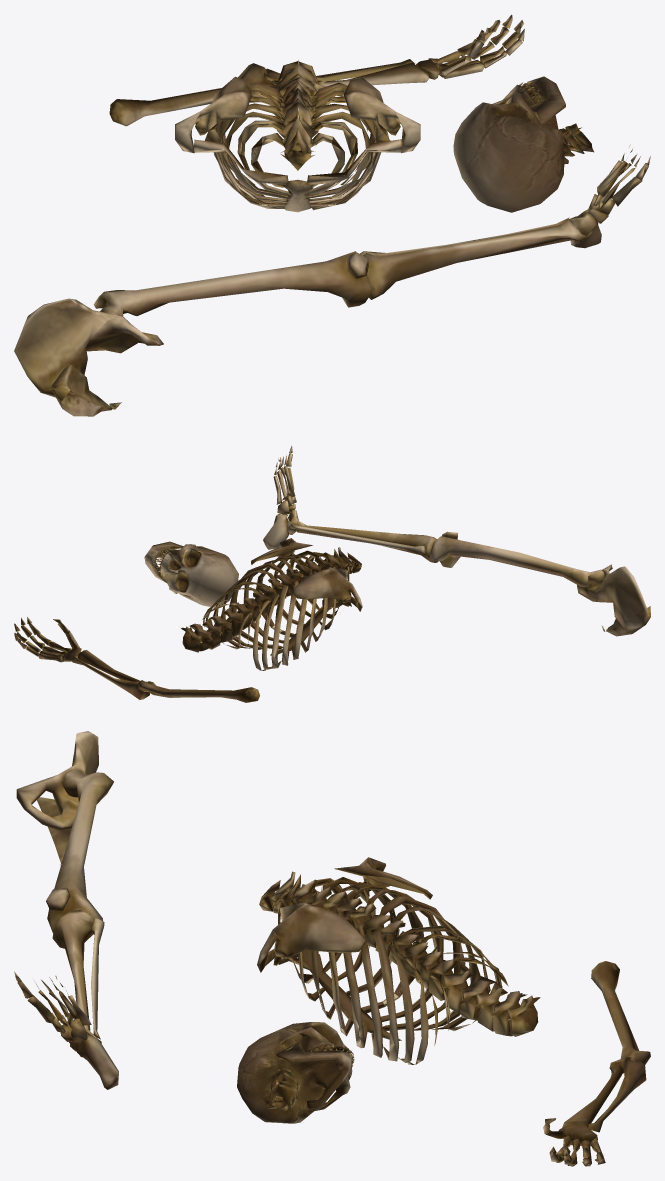
3 views of the same model, one above another, from view 1: azimuth 30°, elevation 25°; view 2: azimuth 150°, elevation 25°; view 3: azimuth 270°, elevation 25° (orthographic). The views are drawn at different scales.
Parts seen in each view (by area): view 1: skeleton.2; view 2: skeleton.2; view 3: skeleton.2.
Boxes of the visible parts, x1,y1,x2,y2 form: skeleton.2: (14, 14, 650, 416); skeleton.2: (14, 445, 650, 702); skeleton.2: (14, 731, 650, 1166).
Bounding box in the file's own units: 1.94 × 0.3746 × 1.44.
Materials: 1 (1 with a texture image).
